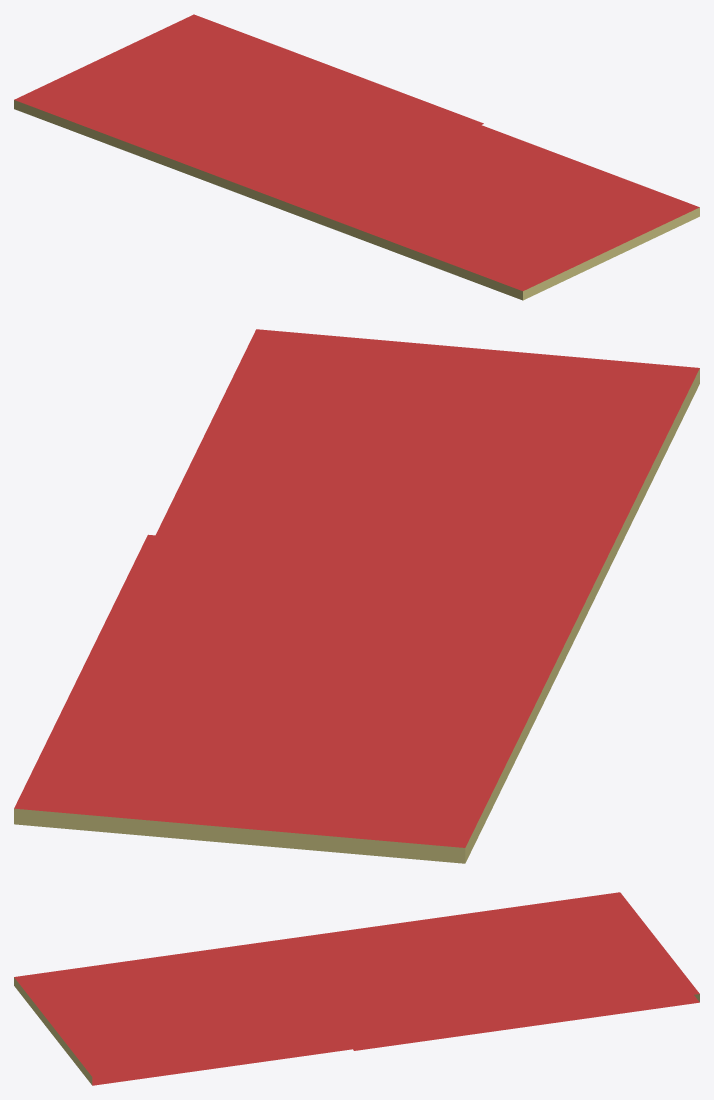
3 renders of one model, top to bottom at view 1: azimuth 30°, elevation 25°; view 2: azimuth 150°, elevation 25°; view 3: azimuth 270°, elevation 25°, orthographic. The views are drawn at different scales.
Size of the model in its own units: 4.57 by 7.17 by 0.1.
